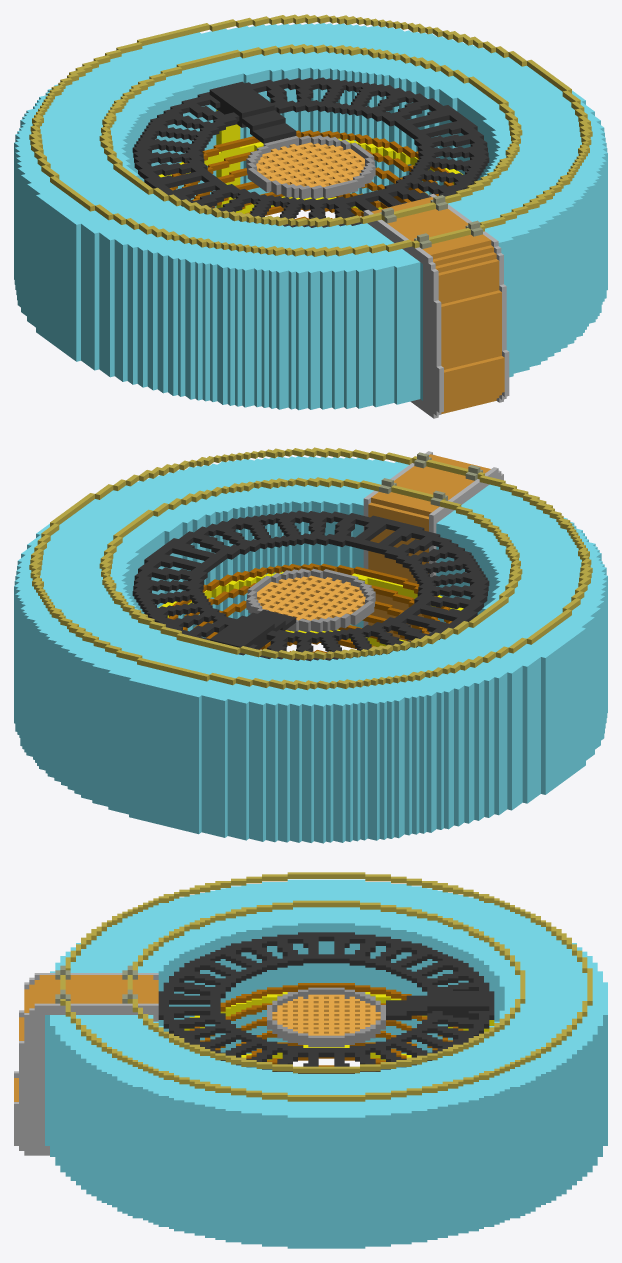
Rendered from Nuclear Pile1-2.fbx.
The picture shows the model from 3 angles, top to bottom: view 1: azimuth 30°, elevation 25°; view 2: azimuth 150°, elevation 25°; view 3: azimuth 270°, elevation 25°; orthographic projection. The views are drawn at different scales.
Parts seen in each view (by area): view 1: Nuclear Pile1-2.000, Nuclear Pile1-2.003, Nuclear Pile1-2.014, Nuclear Pile1-2.001, Nuclear Pile1-2.002, Nuclear Pile1-2.012, Nuclear Pile1-2.048, Nuclear Pile1-2.004, Nuclear Pile1-2.005, Nuclear Pile1-2.006; view 2: Nuclear Pile1-2.000, Nuclear Pile1-2.003, Nuclear Pile1-2.001, Nuclear Pile1-2.002, Nuclear Pile1-2.014, Nuclear Pile1-2.012, Nuclear Pile1-2.048, Nuclear Pile1-2.004, Nuclear Pile1-2.005, Nuclear Pile1-2.006; view 3: Nuclear Pile1-2.000, Nuclear Pile1-2.003, Nuclear Pile1-2.014, Nuclear Pile1-2.001, Nuclear Pile1-2.002, Nuclear Pile1-2.012, Nuclear Pile1-2.048, Nuclear Pile1-2.004, Nuclear Pile1-2.005.
Part boxes in pixels (x1,y1,x2,y2): Nuclear Pile1-2.000: (14, 23, 607, 410); Nuclear Pile1-2.003: (132, 77, 489, 227); Nuclear Pile1-2.014: (363, 193, 509, 418); Nuclear Pile1-2.001: (29, 14, 592, 256); Nuclear Pile1-2.002: (99, 44, 522, 227); Nuclear Pile1-2.012: (246, 135, 375, 199); Nuclear Pile1-2.048: (209, 81, 296, 143); Nuclear Pile1-2.004: (169, 130, 453, 190); Nuclear Pile1-2.005: (182, 149, 438, 196); Nuclear Pile1-2.006: (192, 167, 427, 200); Nuclear Pile1-2.000: (14, 456, 607, 843); Nuclear Pile1-2.003: (132, 510, 489, 661); Nuclear Pile1-2.001: (29, 447, 592, 690); Nuclear Pile1-2.002: (99, 477, 522, 660); Nuclear Pile1-2.014: (363, 451, 503, 640); Nuclear Pile1-2.012: (246, 568, 375, 632); Nuclear Pile1-2.048: (209, 609, 296, 649); Nuclear Pile1-2.004: (168, 563, 452, 623); Nuclear Pile1-2.005: (183, 583, 439, 630); Nuclear Pile1-2.006: (194, 600, 429, 634); Nuclear Pile1-2.000: (45, 879, 607, 1248); Nuclear Pile1-2.003: (158, 932, 494, 1073); Nuclear Pile1-2.014: (14, 965, 158, 1155); Nuclear Pile1-2.001: (60, 872, 592, 1101); Nuclear Pile1-2.002: (127, 900, 525, 1073); Nuclear Pile1-2.012: (267, 987, 385, 1047); Nuclear Pile1-2.048: (386, 991, 489, 1020); Nuclear Pile1-2.004: (189, 983, 463, 1030); Nuclear Pile1-2.005: (200, 1003, 452, 1041).
Bounding box in the file's own units: 10.9 × 3.4 × 11.5.
